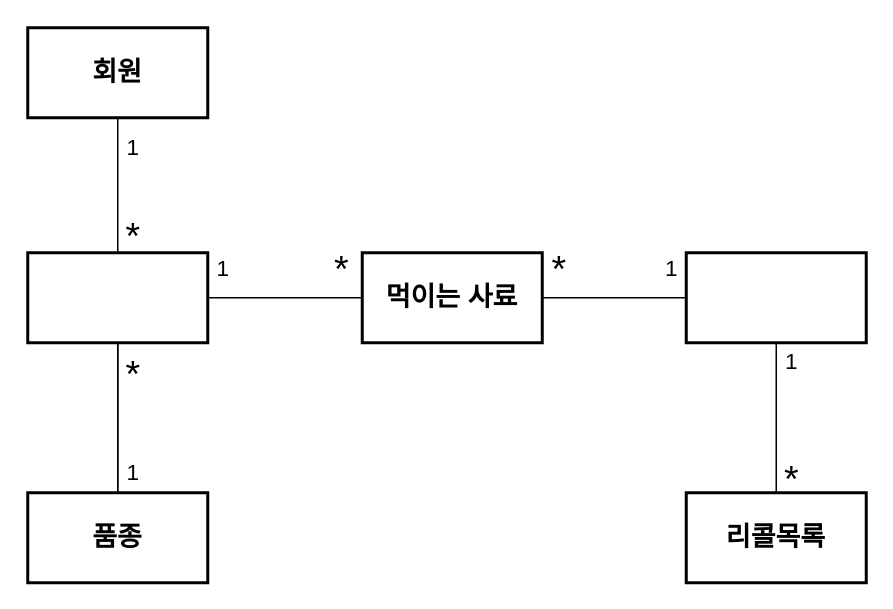
Some shapes in this 893 by 609 pixel diagram are drawn without their labels. The shapes that lost their labels are listed below. From the top down, each one's centre as x and y in pixels, then its label:
pixel 117 297: 반려동물
pixel 775 297: 사료
